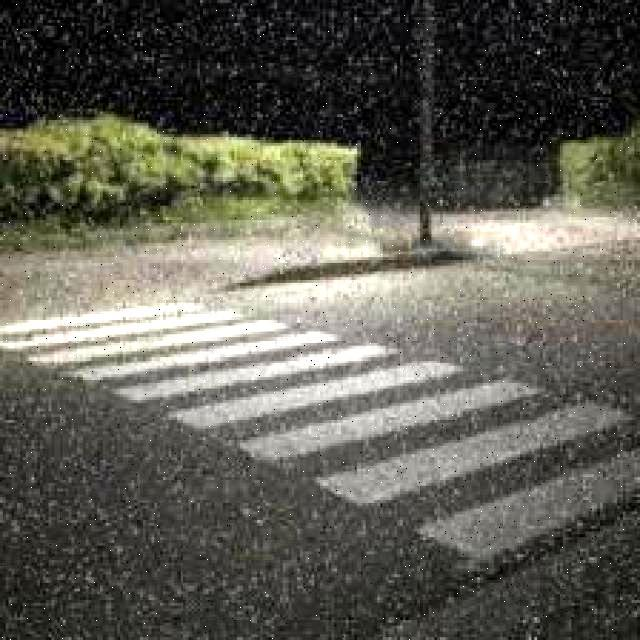crosswalk: (8, 280, 639, 606)
